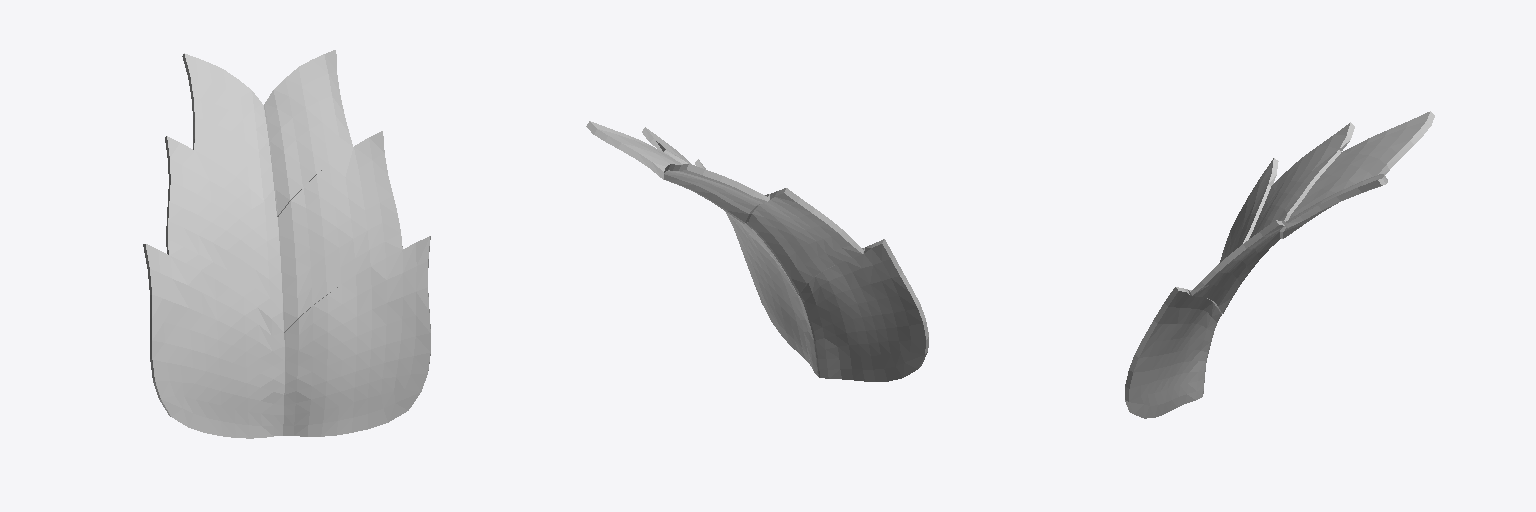
Rendered from leaf-01.obj.
3 renders of one model, left to right at view 1: azimuth 30°, elevation 25°; view 2: azimuth 150°, elevation 25°; view 3: azimuth 270°, elevation 25°, orthographic.
Visible parts, largest first — view 1: Leaf_01; view 2: Leaf_01; view 3: Leaf_01.
Part boxes in pixels (bbox=[...]): Leaf_01: bbox=[143, 50, 430, 438]; Leaf_01: bbox=[586, 121, 928, 381]; Leaf_01: bbox=[1125, 111, 1434, 418].
Bounding box in the file's own units: 0.3005 × 0.3211 × 0.308.